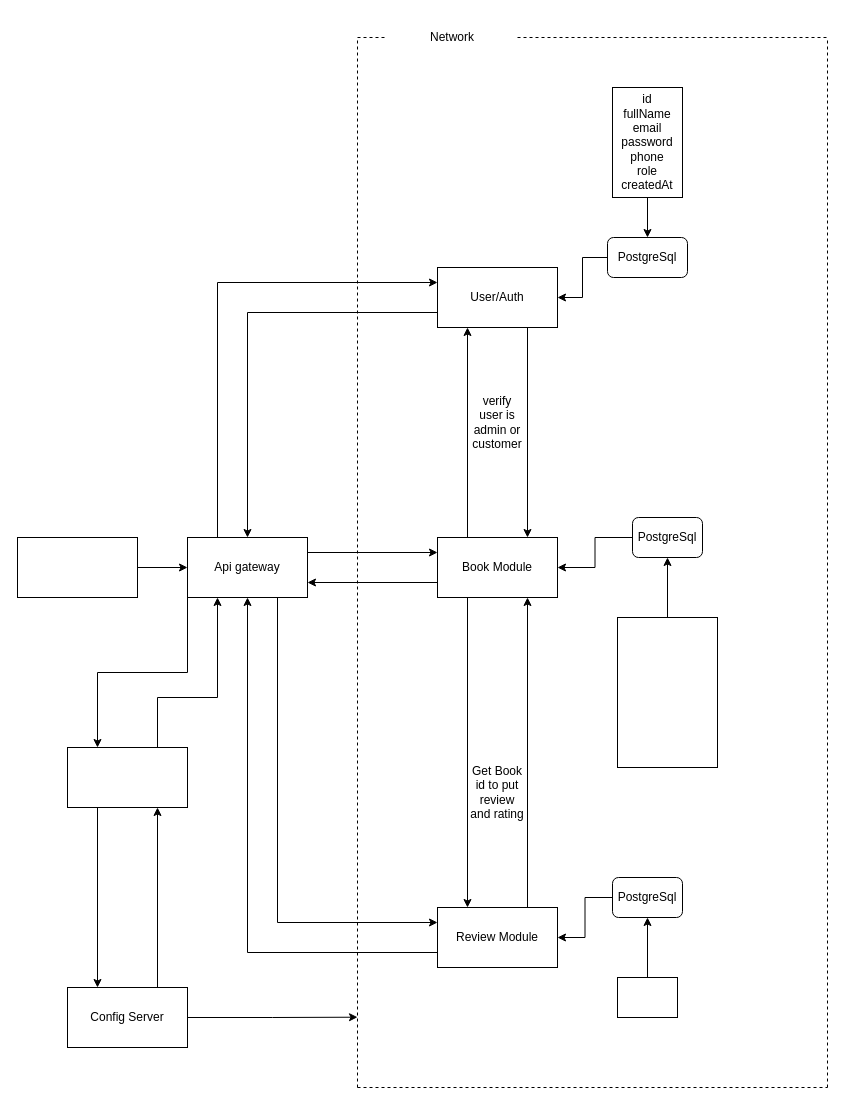
Image size: 846x1106. Some labels were removed from this diagram. The centre of each missing label's shape, as x and y in pixels:
Client: the point at 77,567
Eureka Discovery: the point at 127,777
id title author ISBN description price stock category publishedDate: the point at 667,692
Rating review: the point at 647,997
